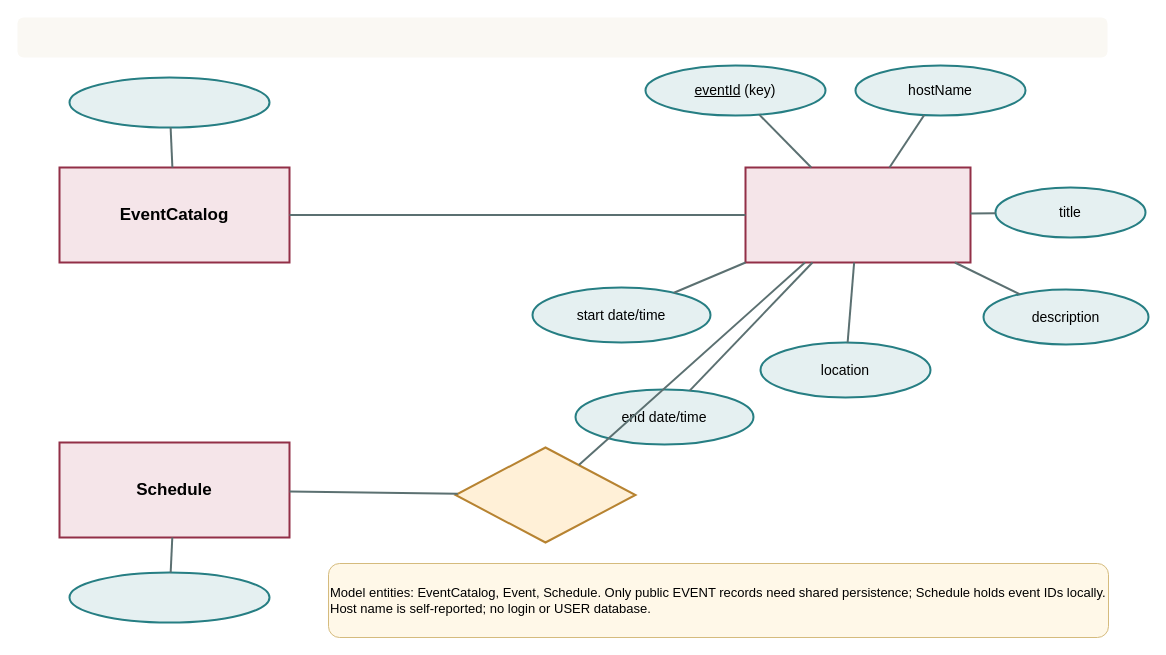
This 1166x655 diagram has some shape labels left out. The shapes that lost their labels are listed below. From the top down, each one's centre as x and y in pixels, then its label:
the point at 562,37: SideQuest MVP • Proposed P5 ER based on P4
the point at 169,102: catalogId? (one catalog)
the point at 857,214: Event
the point at 545,494: plans to attend
the point at 169,597: scheduleId (local)
